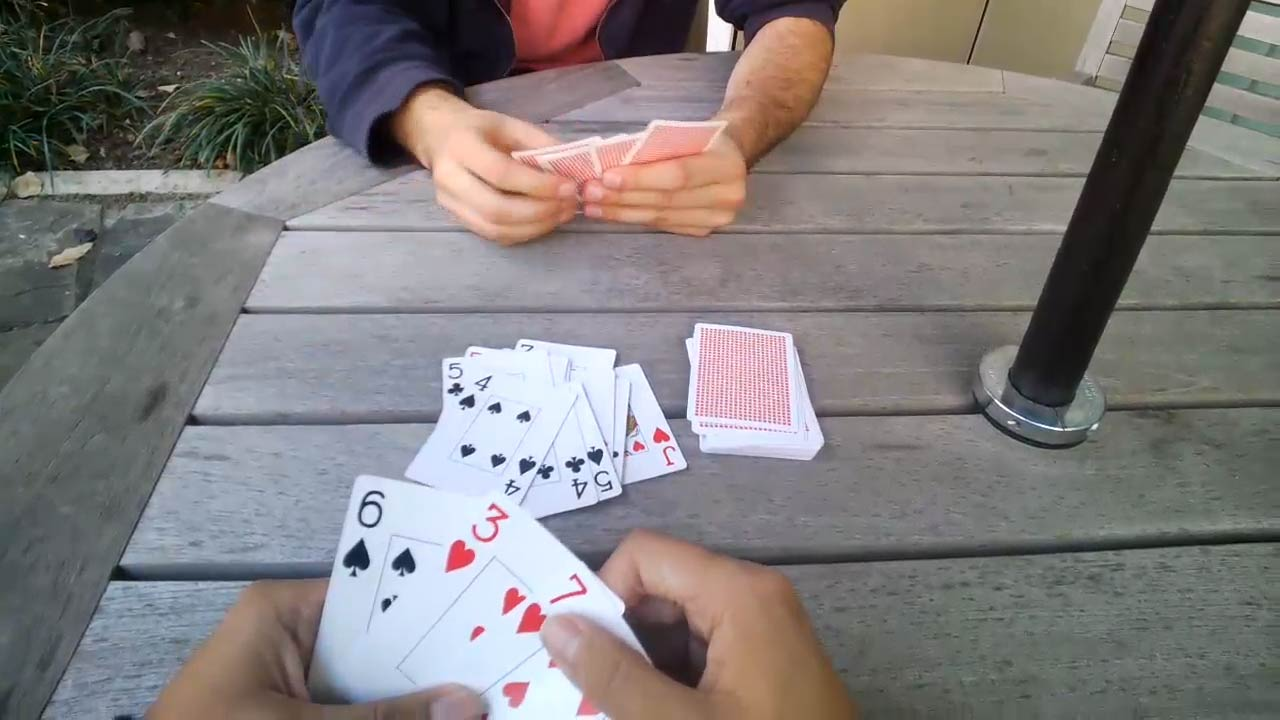hand: (546, 530, 855, 716), (147, 571, 471, 717), (586, 127, 748, 244), (431, 109, 575, 240)
